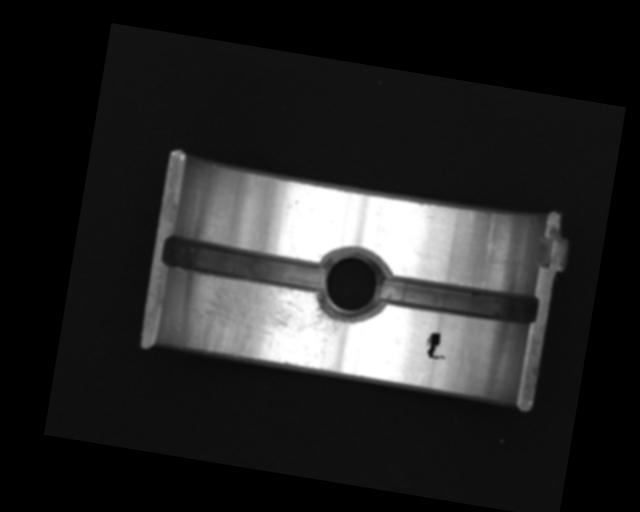blot: (423, 330, 448, 362)
gap: (159, 234, 327, 294), (379, 272, 539, 327)
hole: (312, 247, 393, 326)
nick: (482, 215, 499, 261)
scratch: (182, 272, 350, 372)
